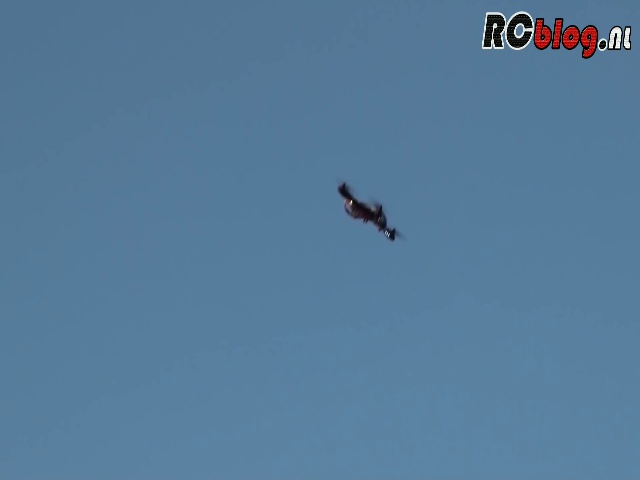drone: (334, 176, 407, 245)
